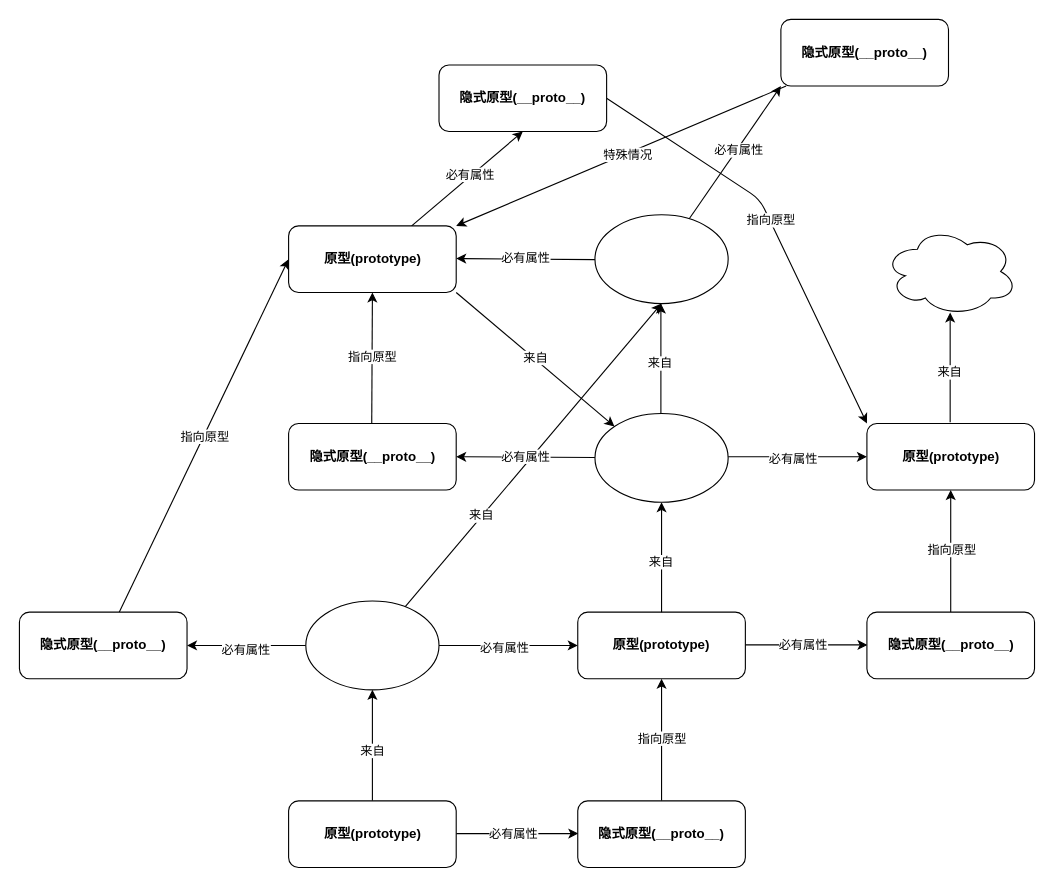
Image size: 1055x887. Some labels were removed from this diagram. The centre of each missing label's shape, as x and y in pixels:
Function: (x=661, y=259)
null: (x=950, y=271)
Object: (x=661, y=457)
构造函数: (x=372, y=645)
